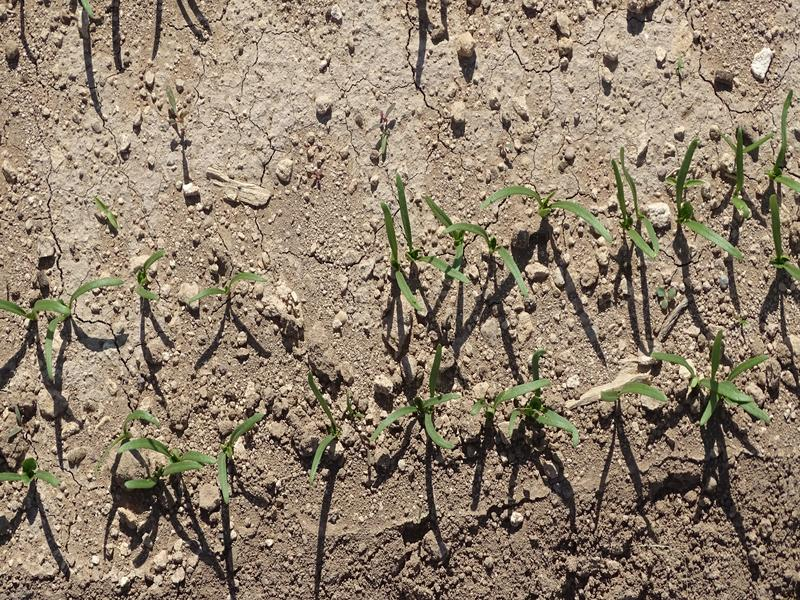Espinaca: (364, 181, 613, 315), (611, 141, 758, 265), (366, 384, 585, 453), (112, 406, 266, 501), (659, 341, 776, 425), (1, 273, 117, 324), (769, 109, 800, 275), (303, 373, 340, 476), (186, 268, 265, 310), (593, 380, 663, 403), (135, 251, 161, 301), (43, 328, 61, 386), (1, 474, 62, 487)
